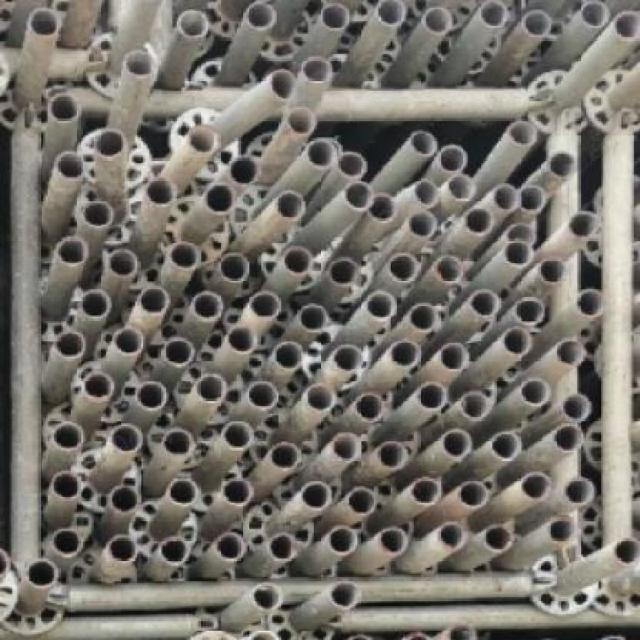pipe: (185, 122, 222, 161), (123, 46, 160, 83), (220, 474, 256, 511), (74, 286, 113, 320), (430, 251, 468, 285), (243, 1, 282, 34), (330, 431, 365, 467), (468, 286, 503, 322), (228, 151, 262, 188), (405, 128, 442, 162), (220, 419, 257, 453), (54, 236, 90, 270), (52, 420, 88, 454), (388, 249, 422, 285), (158, 534, 194, 568), (109, 481, 143, 517), (109, 423, 145, 457), (332, 341, 366, 377), (82, 198, 119, 231), (166, 240, 203, 273), (349, 392, 386, 425), (216, 249, 251, 283), (436, 142, 471, 176), (54, 328, 88, 363), (191, 291, 226, 325), (196, 371, 231, 405), (45, 92, 81, 125), (54, 148, 87, 184), (92, 126, 128, 159), (286, 103, 319, 139), (365, 285, 398, 321), (245, 378, 281, 411), (85, 371, 119, 405), (519, 469, 553, 503), (442, 429, 476, 463), (326, 525, 360, 559), (305, 382, 339, 416), (408, 302, 442, 336), (274, 187, 307, 222), (50, 469, 85, 502), (164, 334, 199, 367), (51, 530, 90, 559), (420, 3, 454, 36), (148, 174, 181, 208), (203, 181, 237, 214), (108, 246, 141, 280), (136, 285, 170, 318), (408, 208, 441, 242), (112, 325, 145, 359), (166, 474, 200, 507), (438, 339, 471, 373), (388, 338, 422, 371), (373, 528, 413, 556), (546, 149, 582, 180), (460, 389, 496, 420), (281, 245, 314, 278), (463, 205, 496, 238), (457, 478, 490, 511), (272, 340, 305, 373), (417, 380, 450, 413), (518, 375, 551, 408), (268, 66, 297, 103), (25, 559, 62, 588), (28, 8, 62, 39), (319, 3, 353, 34), (505, 239, 539, 270), (546, 514, 580, 545), (271, 440, 302, 474), (552, 423, 586, 454), (514, 297, 548, 328), (179, 8, 210, 41), (478, 0, 511, 31), (521, 9, 554, 40), (301, 54, 334, 85), (308, 137, 339, 170), (491, 183, 524, 214), (299, 301, 330, 334), (565, 476, 598, 507), (268, 532, 301, 563), (215, 532, 248, 563), (108, 534, 141, 565), (226, 326, 259, 357), (163, 428, 196, 459), (248, 291, 283, 320), (328, 254, 357, 288), (568, 210, 602, 239), (497, 329, 532, 357), (337, 148, 368, 179), (137, 380, 168, 411), (412, 476, 443, 507), (556, 337, 587, 368), (510, 115, 539, 148), (366, 193, 399, 222), (493, 431, 522, 464), (297, 483, 330, 512), (483, 525, 517, 553), (560, 392, 594, 420), (375, 0, 408, 28), (542, 254, 570, 287), (577, 0, 608, 29), (576, 288, 607, 317), (614, 11, 640, 45), (345, 180, 373, 211), (439, 520, 467, 551), (348, 489, 379, 517), (414, 177, 442, 206), (525, 183, 548, 216), (506, 222, 539, 244), (614, 539, 639, 567)
